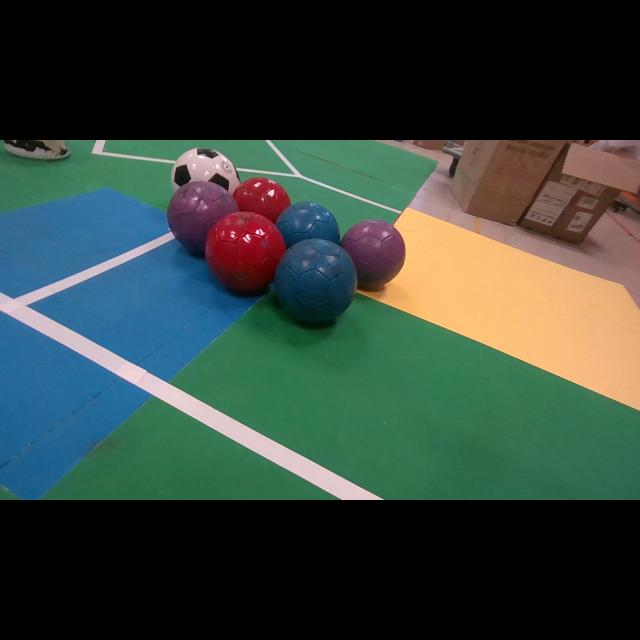B: (275, 239, 358, 322), (276, 201, 340, 247)
P: (168, 181, 239, 253), (341, 220, 405, 289)
R: (205, 211, 285, 292), (232, 178, 291, 222)
